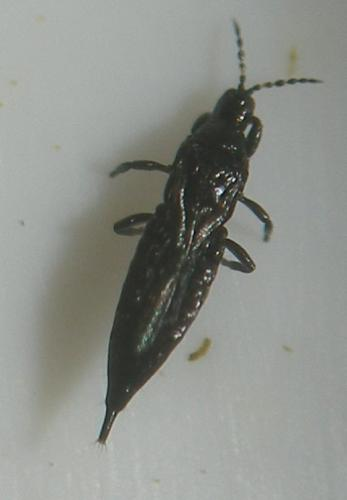Phlaeothripidae: (82, 18, 322, 455)
